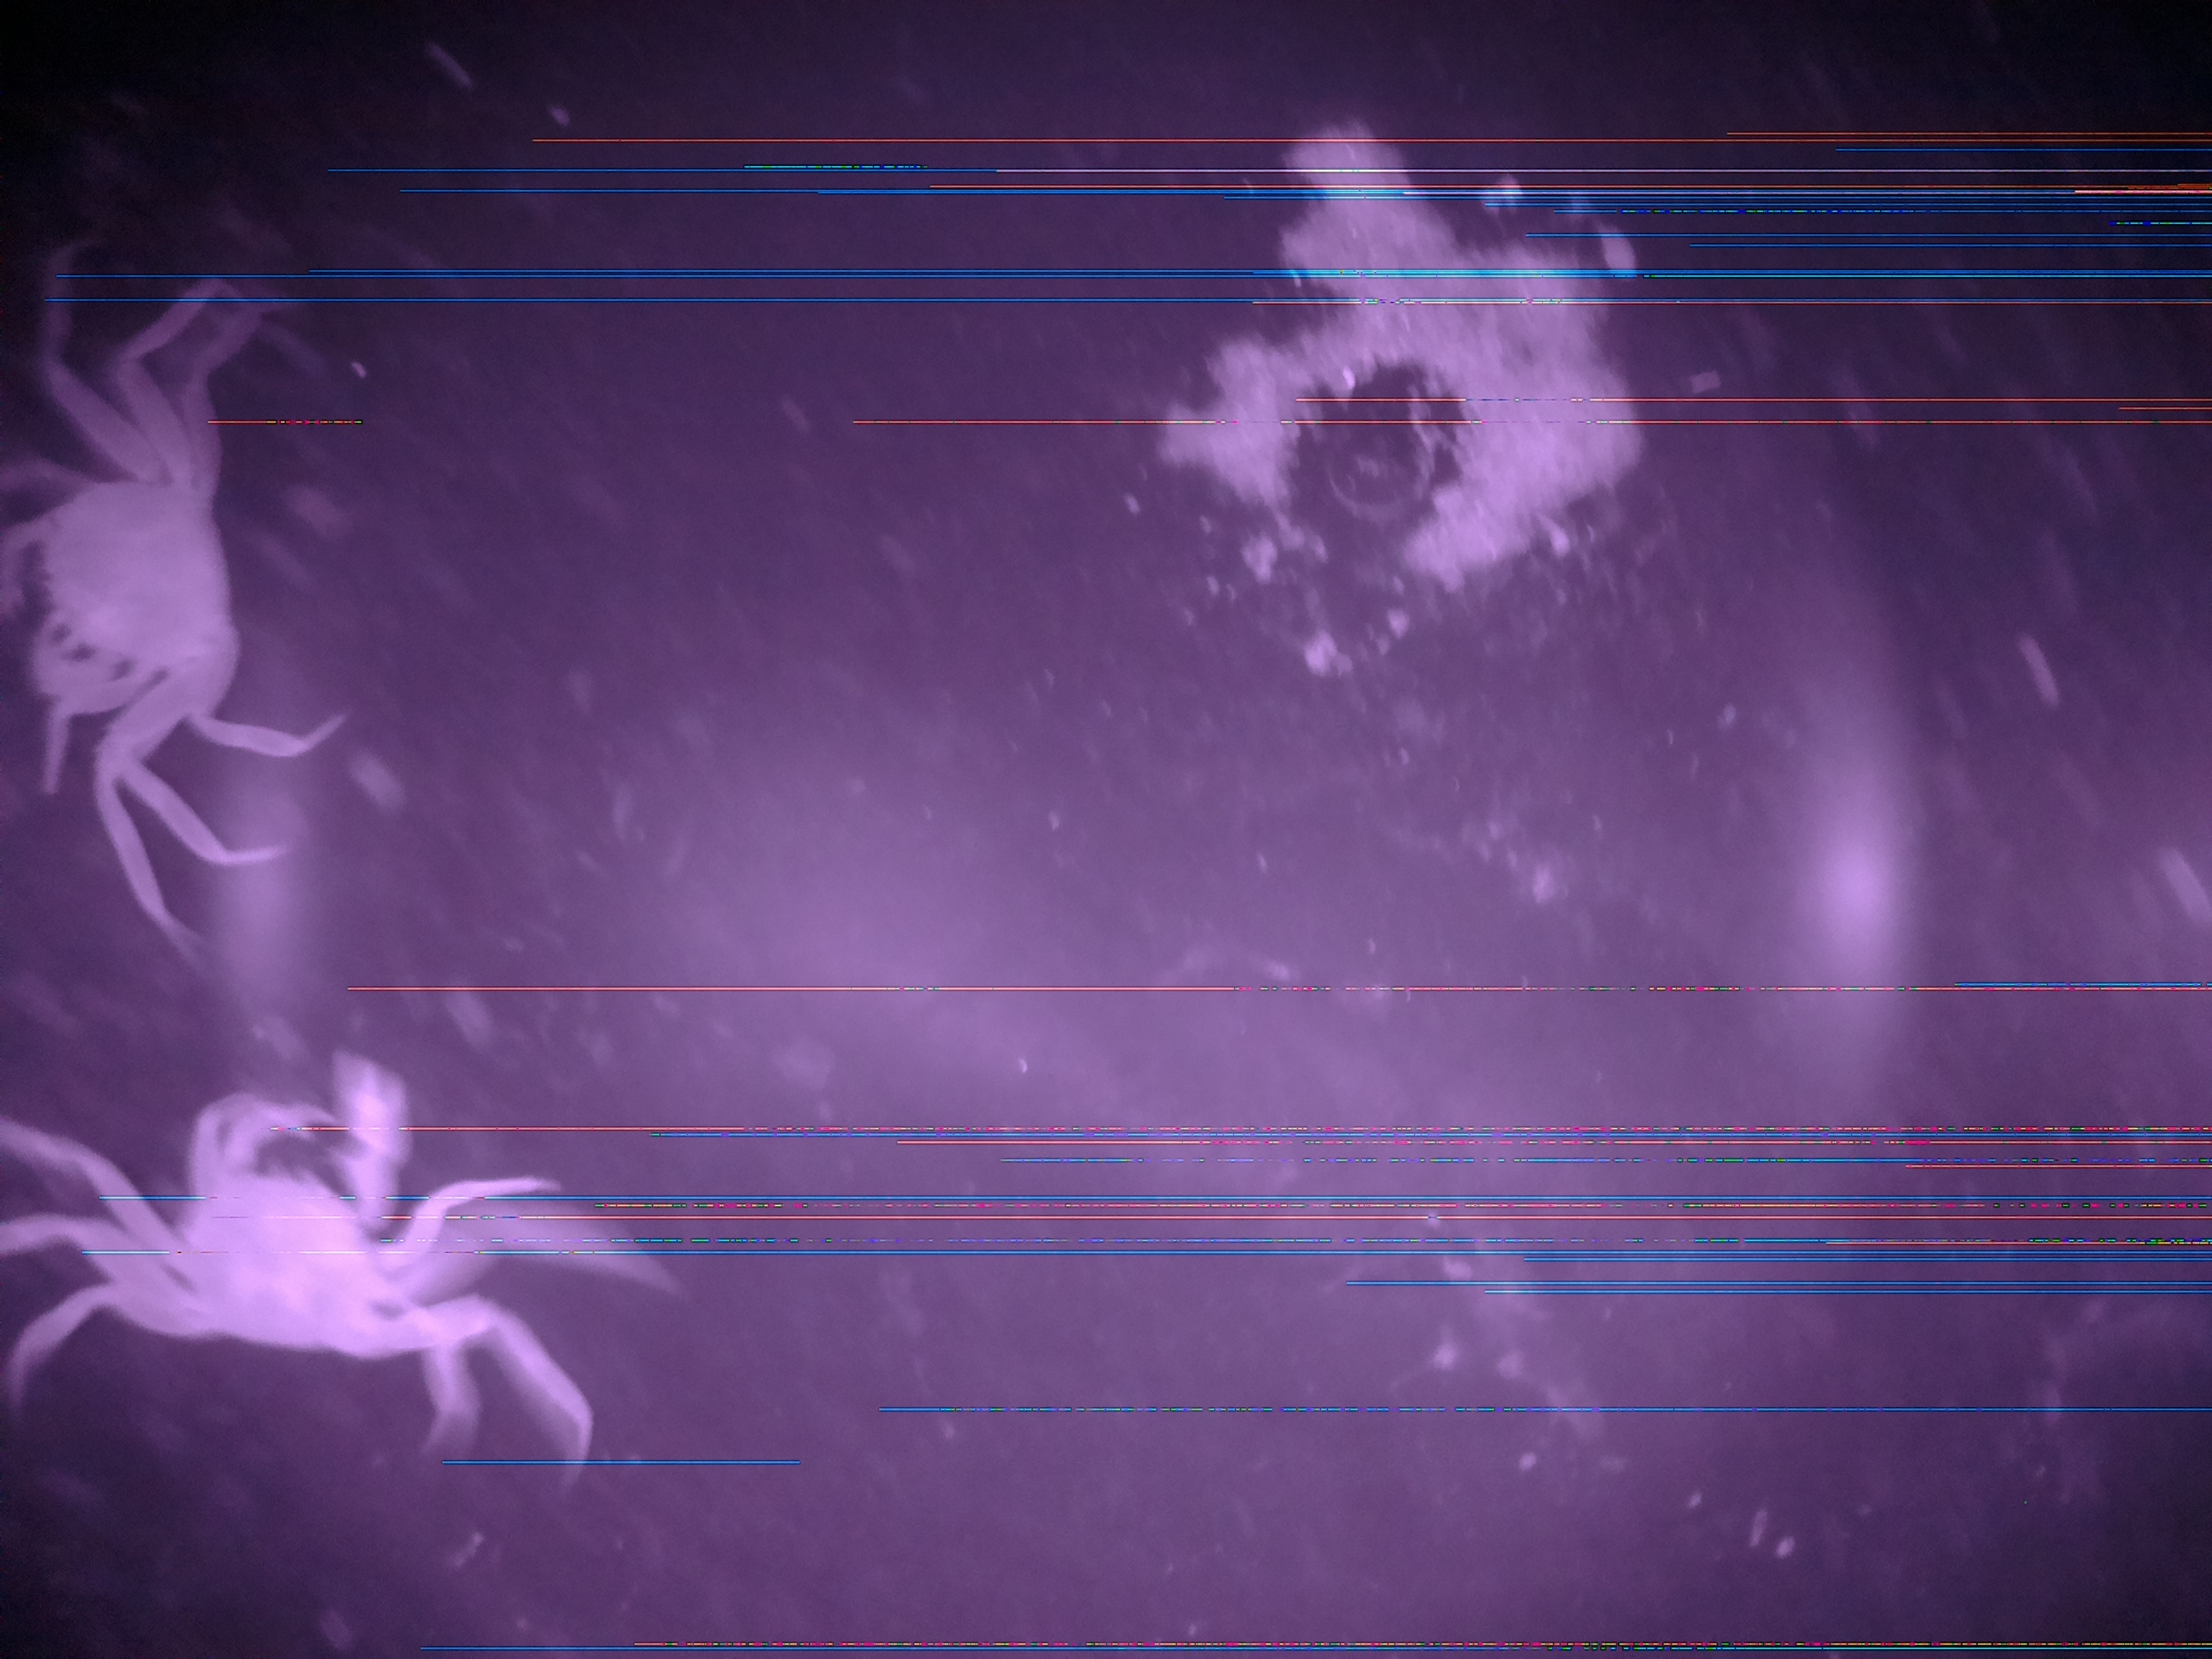Crab: (2, 403, 286, 807), (111, 1126, 449, 1427)
